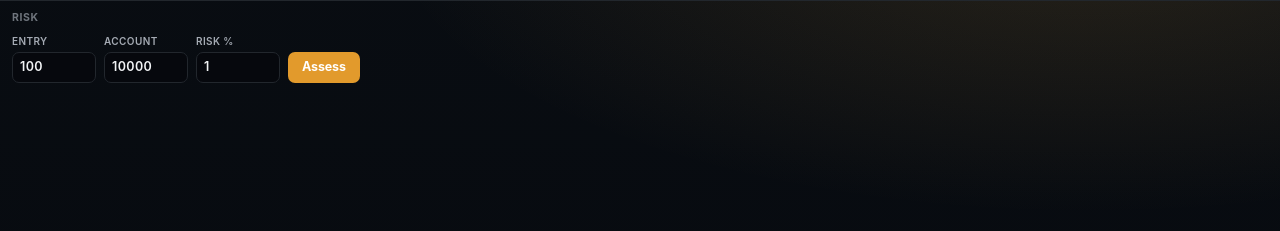
Test case: RiskBox › rides a speculative target into the request and tags it apart (#220)
What coordinates should you click on to do the following:
click the button "Assess"
I would click on:
 (324, 67)
Its box is x1=288 y1=52 x2=360 y2=83.
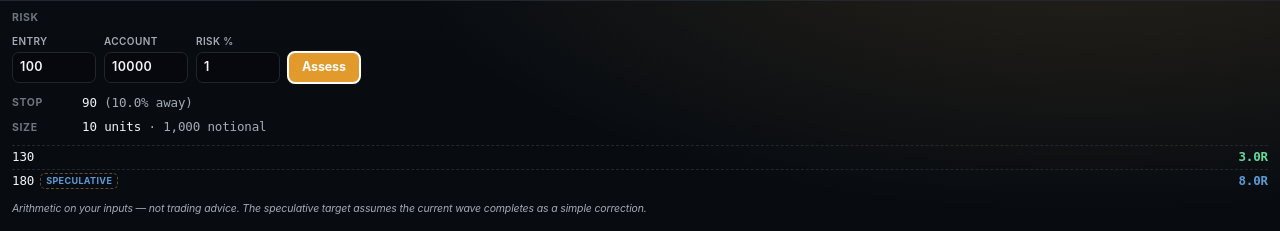
Check: the text "8.0R" is shown, box x1=1238 y1=172 x2=1268 y2=191
Check: the text "speculative" is shown, box x1=40 y1=173 x2=118 y2=189
Check: the text "assumes the current wave completes as a simple correction" is shown, box x1=240 y1=202 x2=647 y2=214
